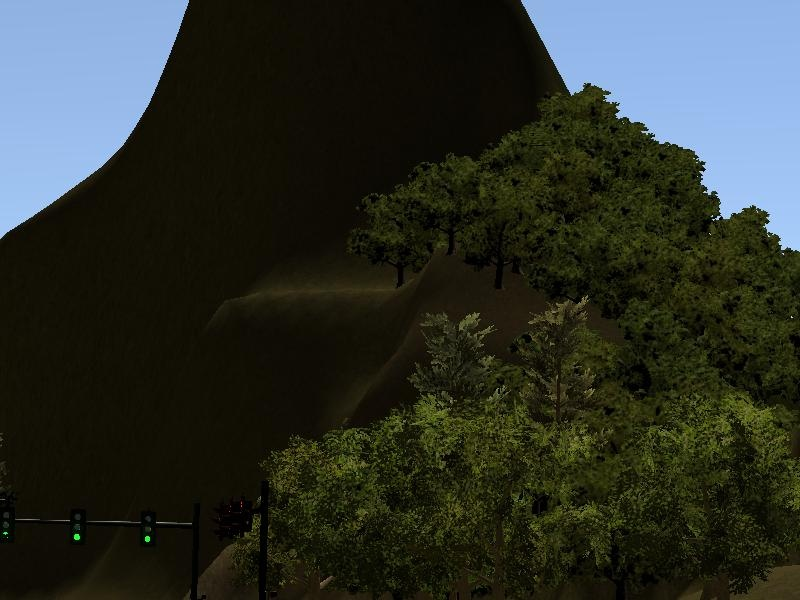GREEN: (135, 506, 157, 550), (66, 509, 88, 551)
